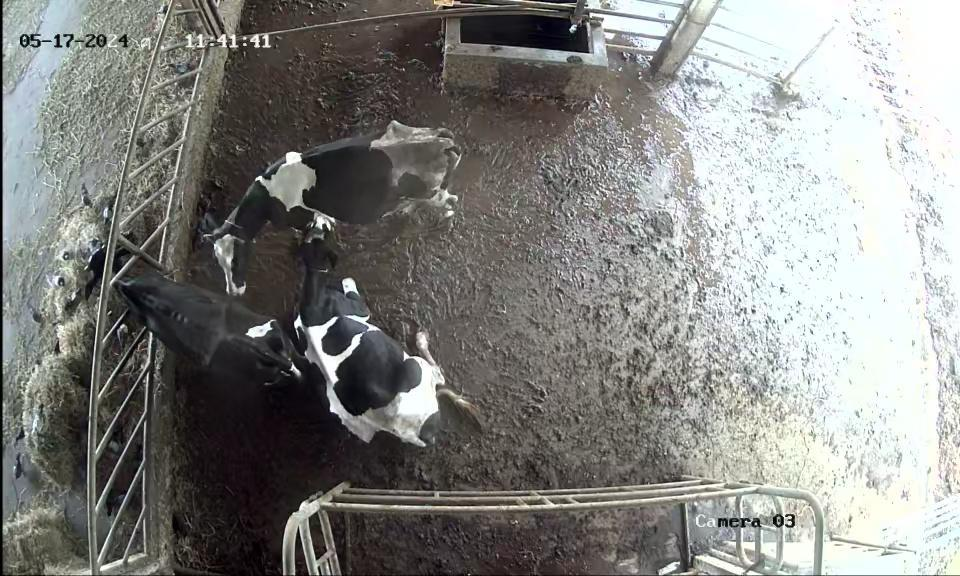eat: (56, 228, 172, 305)
lay: (282, 217, 490, 465)
stand: (202, 116, 508, 305)
